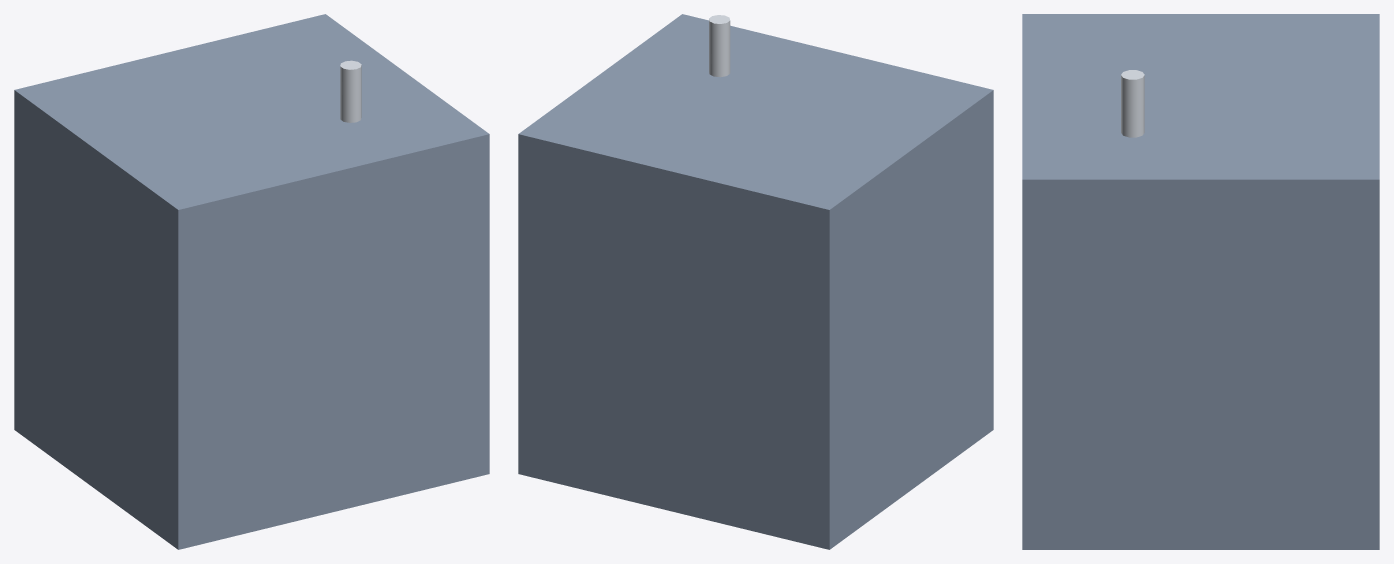
The model's file is fixture-drinking-fountain.glb.
3 views of the same model, side by side, from view 1: azimuth 30°, elevation 25°; view 2: azimuth 150°, elevation 25°; view 3: azimuth 270°, elevation 25° (orthographic). The views are drawn at different scales.
Parts seen in each view (by area): view 1: plumbing-fixture-drinking-fountain; view 2: plumbing-fixture-drinking-fountain; view 3: plumbing-fixture-drinking-fountain.
Boxes of the visible parts, left/top/right/bottom form: plumbing-fixture-drinking-fountain: left=14, top=14, right=489, bottom=549; plumbing-fixture-drinking-fountain: left=518, top=14, right=993, bottom=549; plumbing-fixture-drinking-fountain: left=1022, top=14, right=1379, bottom=549.
Size of the model in its own units: 0.46 by 0.555 by 0.42.
